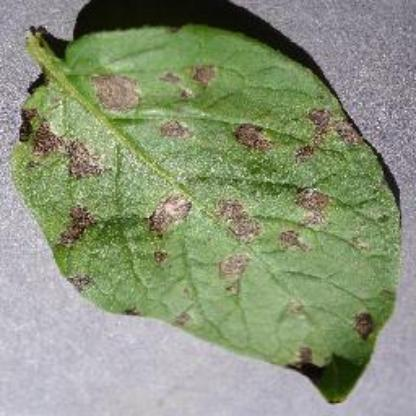Early-Blight: (15, 4, 416, 412)
